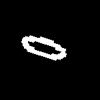chain: (22, 36, 65, 59)
